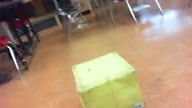cube: (70, 51, 145, 108)
